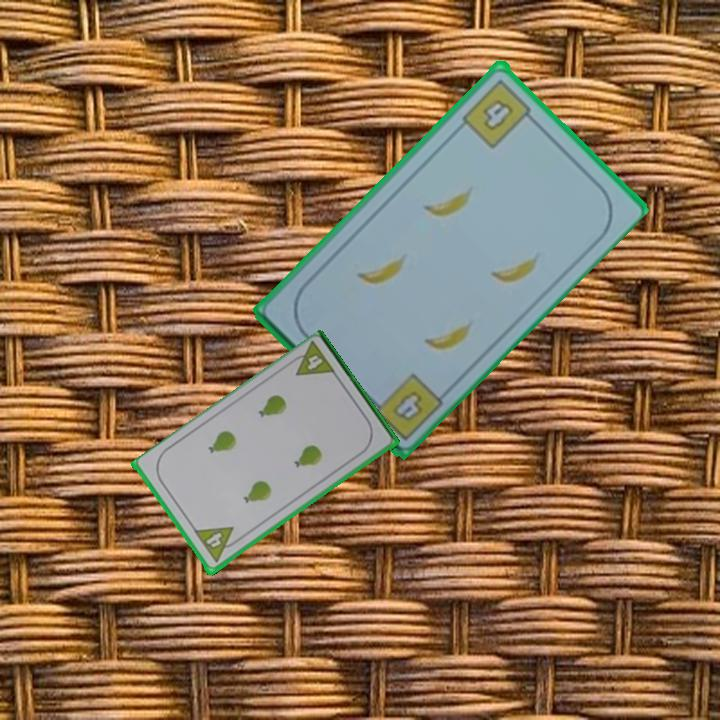4b: (458, 74, 539, 151), (363, 369, 446, 443)
4p: (284, 339, 339, 380), (191, 523, 243, 566)
